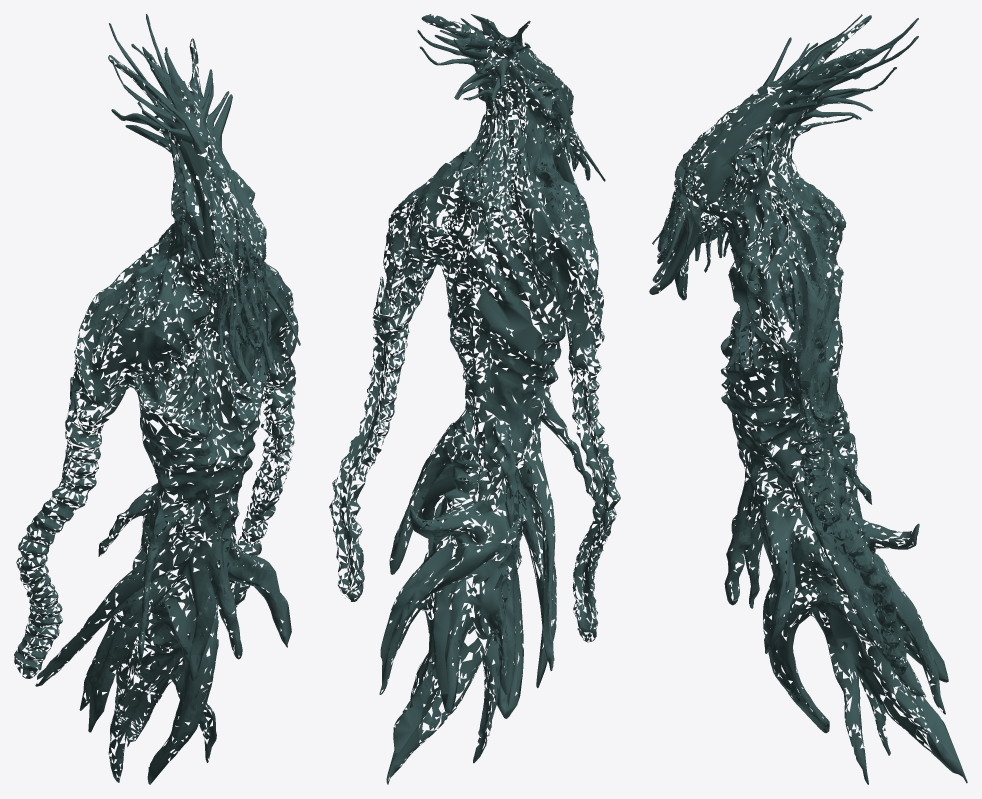
The model's file is abissale.glb.
3 views of the same model, side by side, from view 1: azimuth 30°, elevation 25°; view 2: azimuth 150°, elevation 25°; view 3: azimuth 270°, elevation 25° (orthographic).
Visible parts, largest first — view 1: Sphere.001_Material.001_0; view 2: Sphere.001_Material.001_0; view 3: Sphere.001_Material.001_0.
Boxes of the visible parts, x1=… form: Sphere.001_Material.001_0: x1=14, y1=14, x2=300, y2=784; Sphere.001_Material.001_0: x1=329, y1=14, x2=620, y2=784; Sphere.001_Material.001_0: x1=649, y1=14, x2=967, y2=784.
Size of the model in its own units: 9242 by 24355 by 9414.
